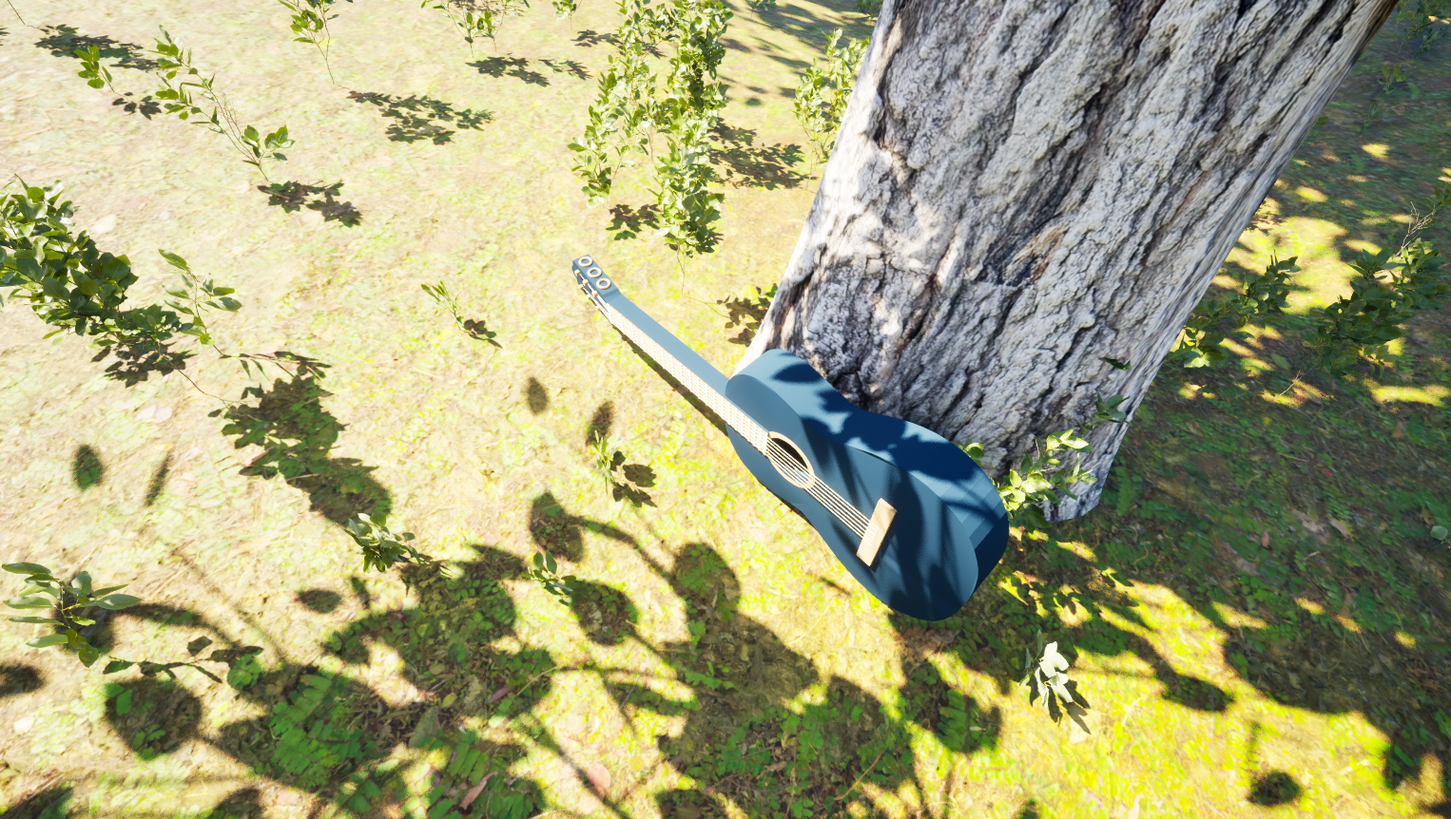Guitar: (540, 180, 1046, 647)
